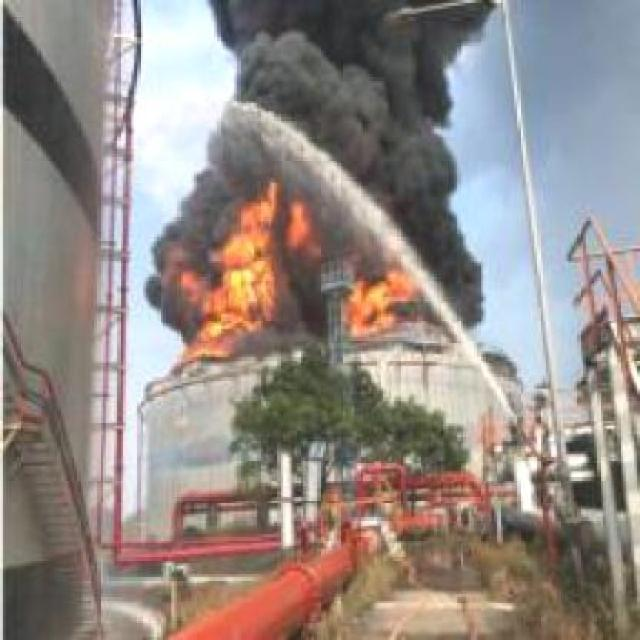Fire: (151, 178, 420, 363)
Smoke: (201, 0, 492, 178)
